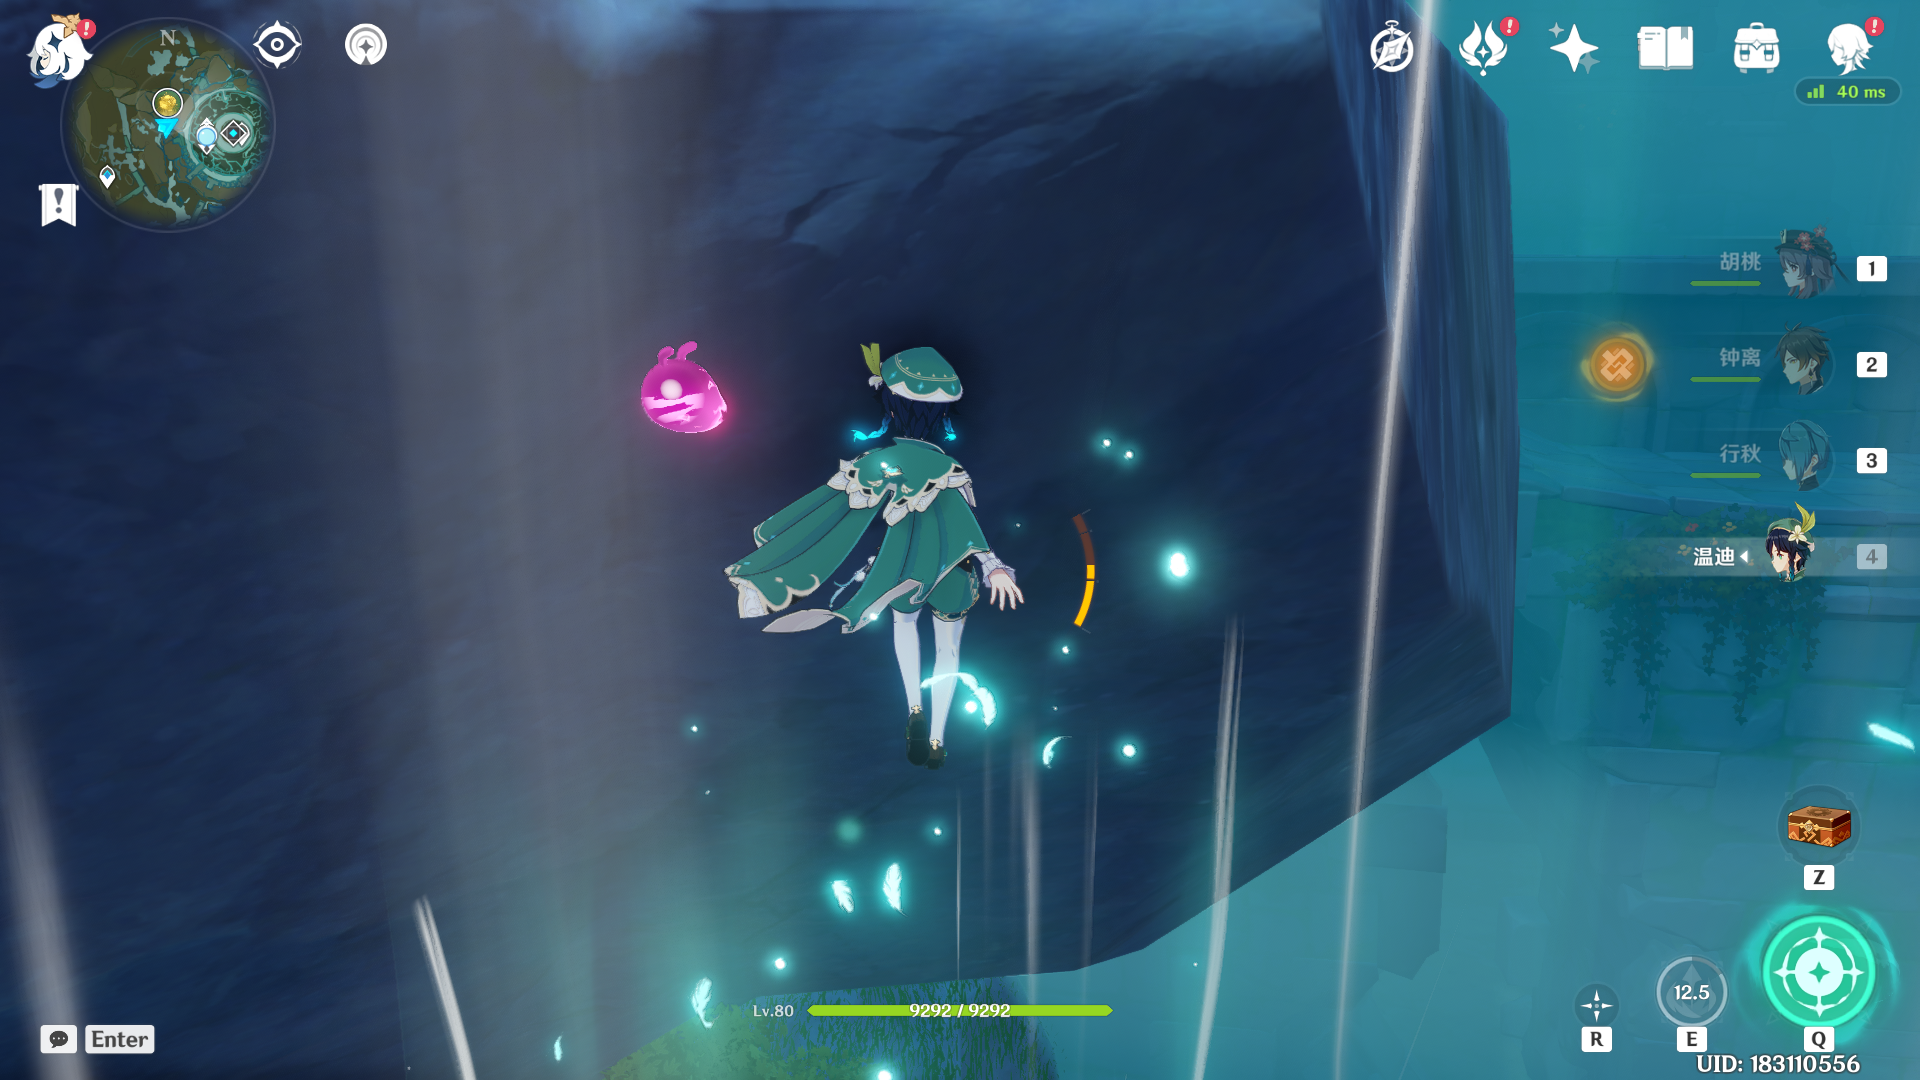character: (673, 280, 1083, 824)
